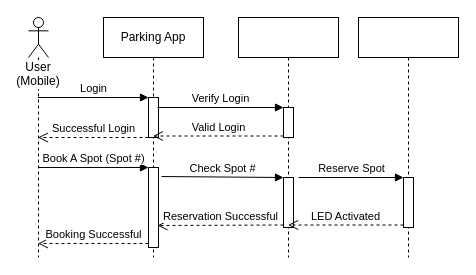
This 476x275 diagram has some shape labels left out. Each missing label, with the box of its shape:
Database: (238, 16, 338, 258)
LED Controller: (358, 16, 458, 258)
